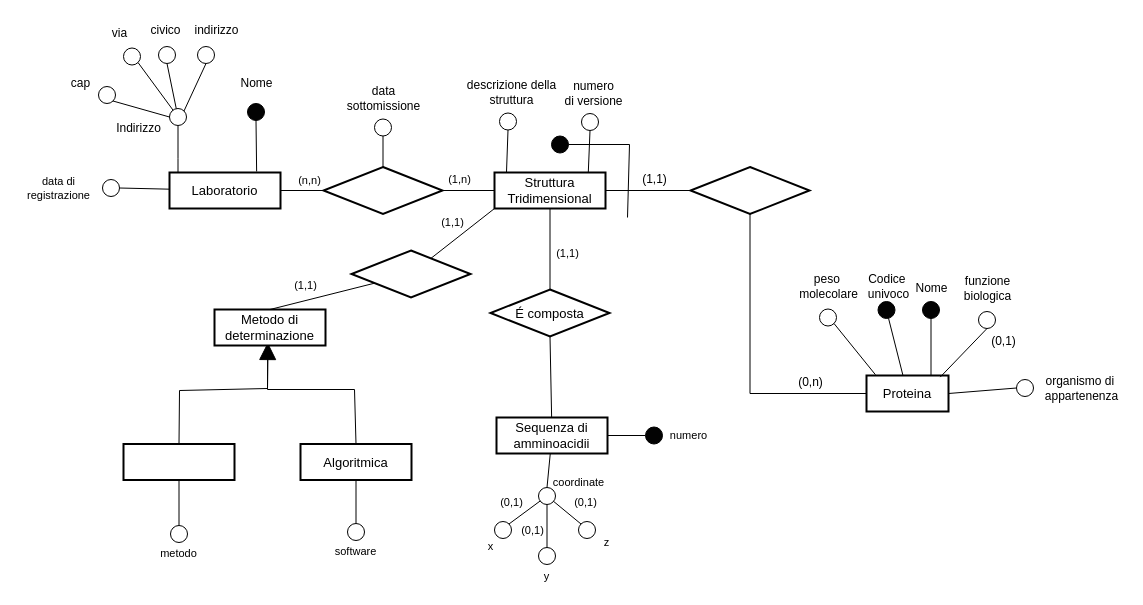
This 1143x605 diagram has some shape labels left out. Each missing label, with the centre of its shape:
Assume: pixel 749 190
Sottomette: pixel 382 190
Sperimentale: pixel 178 461
É determinata: pixel 410 273
